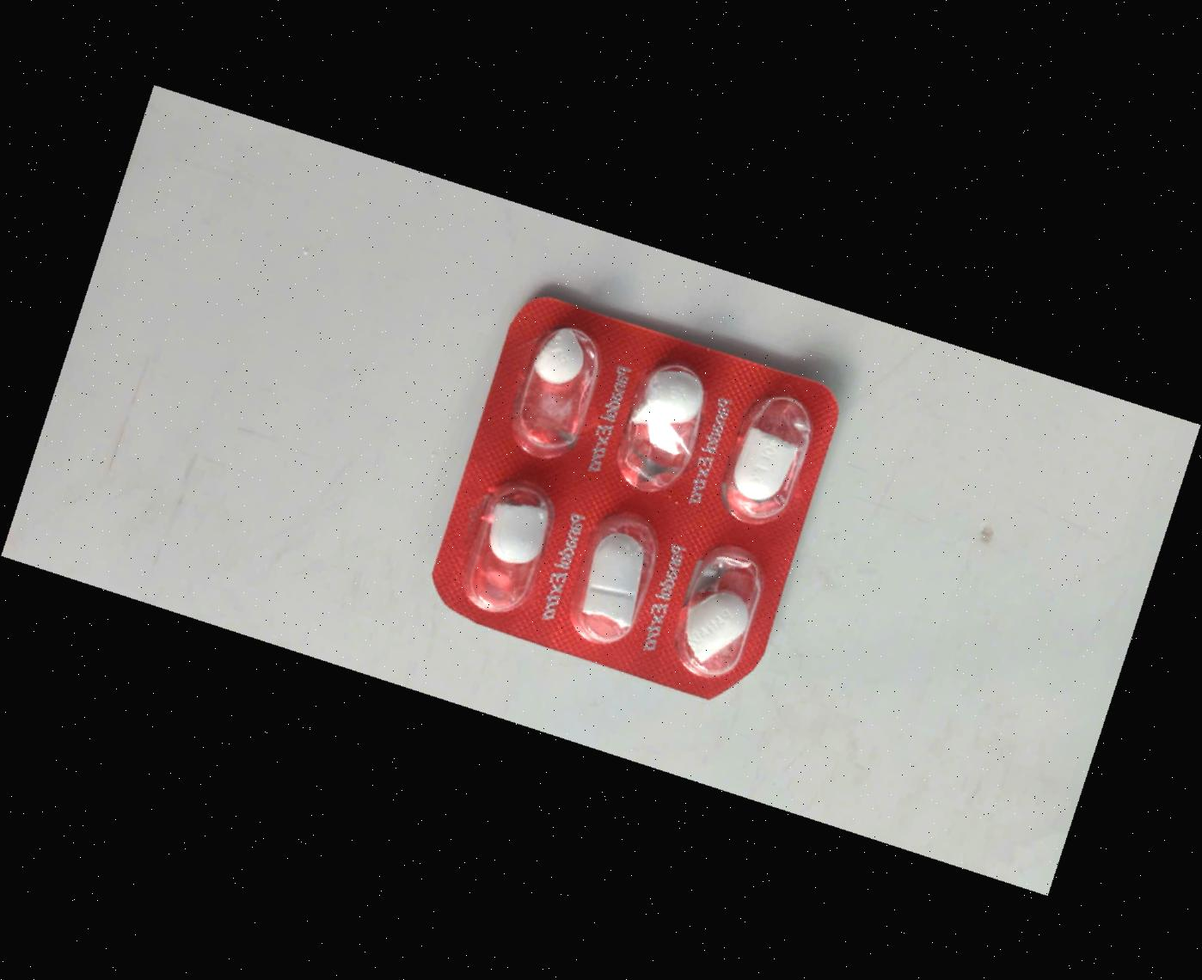Partial: (453, 464, 579, 628), (592, 345, 718, 509), (709, 366, 835, 530), (659, 531, 784, 695), (552, 494, 677, 658), (493, 301, 618, 465)
